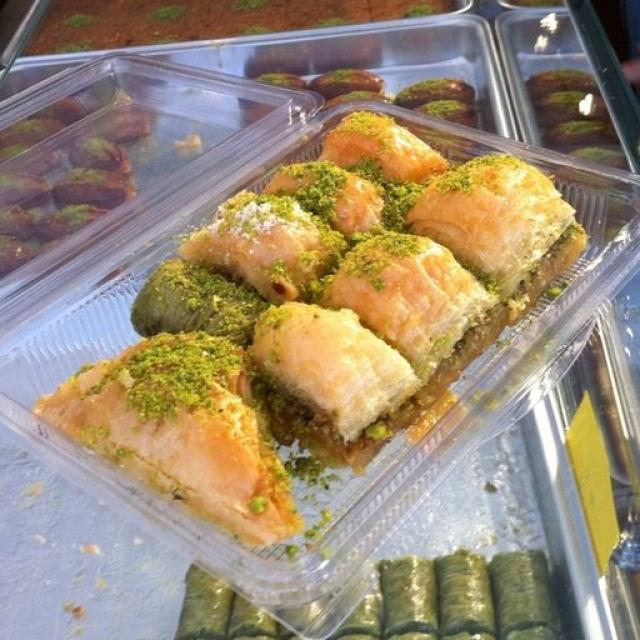Baklawa: (33, 312, 333, 570)
